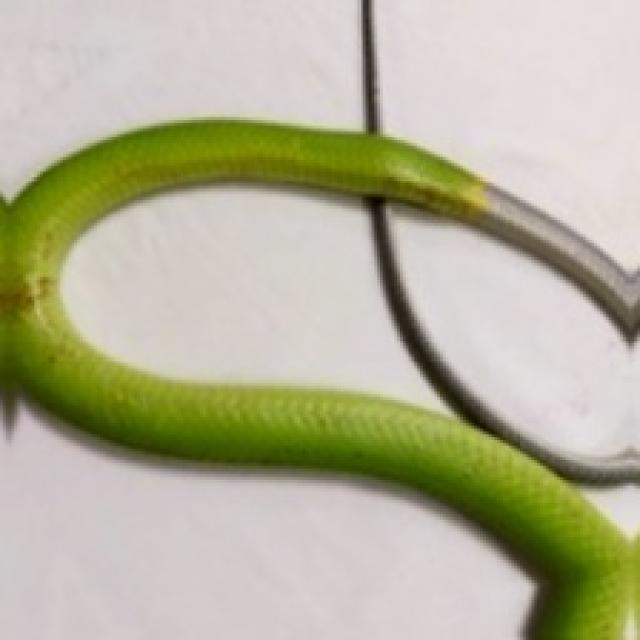red-tailed green ratsnake: (0, 120, 637, 637)
